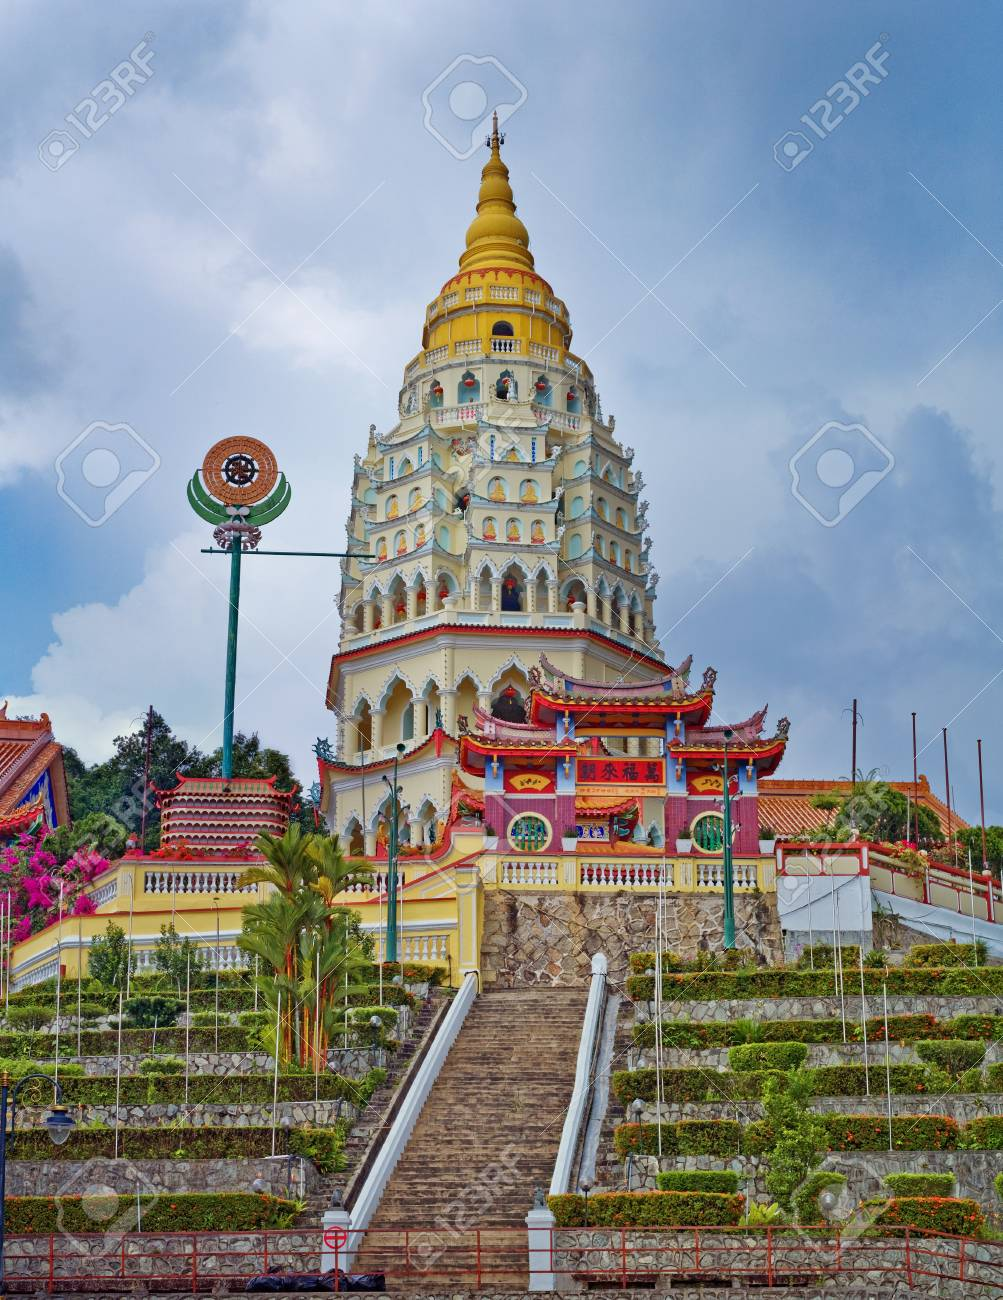Buddhist Temple: (308, 115, 700, 900)
